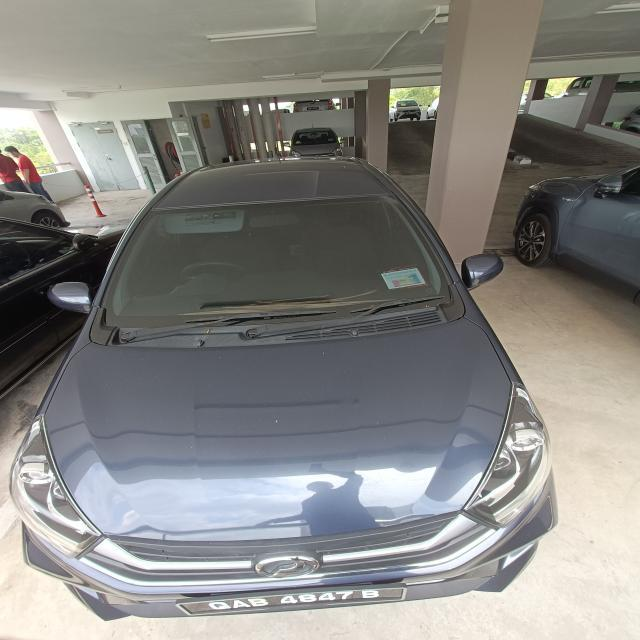PeroduaAxia: (8, 146, 560, 620)
